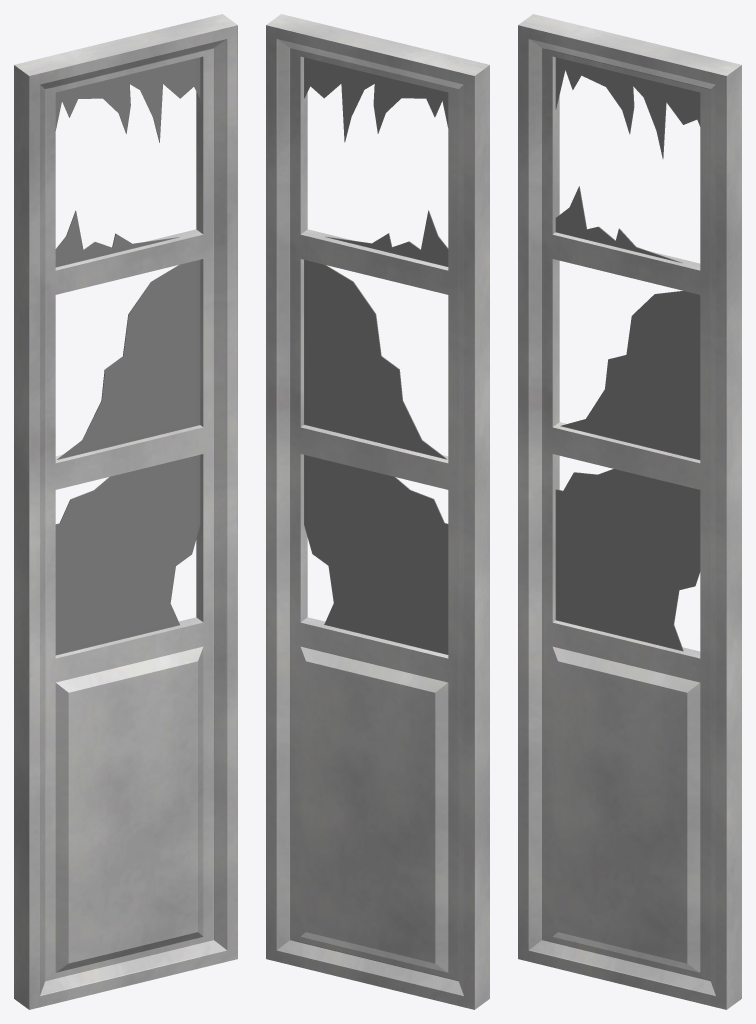
The model's file is Door_Right.obj.
The picture shows the model from 3 angles, left to right: view 1: azimuth 30°, elevation 25°; view 2: azimuth 150°, elevation 25°; view 3: azimuth 330°, elevation 25°; orthographic projection.
Visible parts, largest first — view 1: Door_Right, Door_Glass01; view 2: Door_Right, Door_Glass01; view 3: Door_Right, Door_Glass01.
Boxes of the visible parts, x1,y1,x2,y2 form: Door_Right: (14, 14, 237, 1009); Door_Glass01: (55, 57, 200, 655); Door_Right: (266, 14, 489, 1009); Door_Glass01: (304, 57, 448, 654); Door_Right: (518, 14, 741, 1009); Door_Glass01: (555, 57, 700, 651).
Size of the model in its own units: 53.41 by 228 by 6.78.
